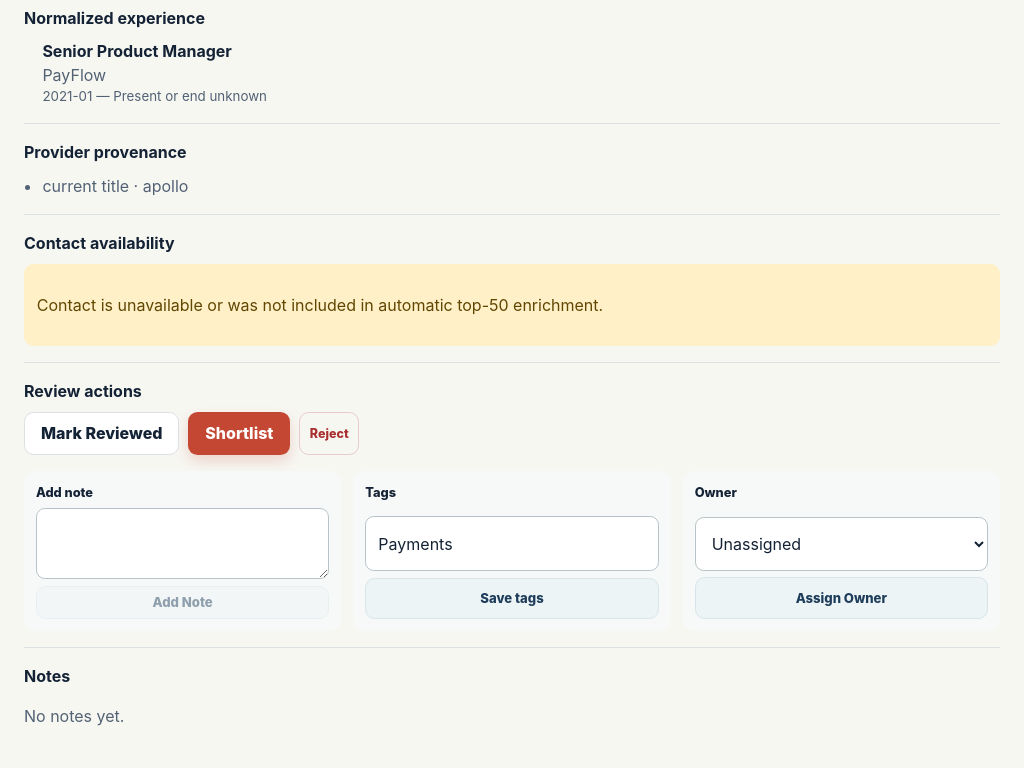
CandidateDetail › moves focus into the controlled rejection dialog
(page scrolled)
Click the button "Reject". click: x=329, y=434
box: [299,412,359,455]
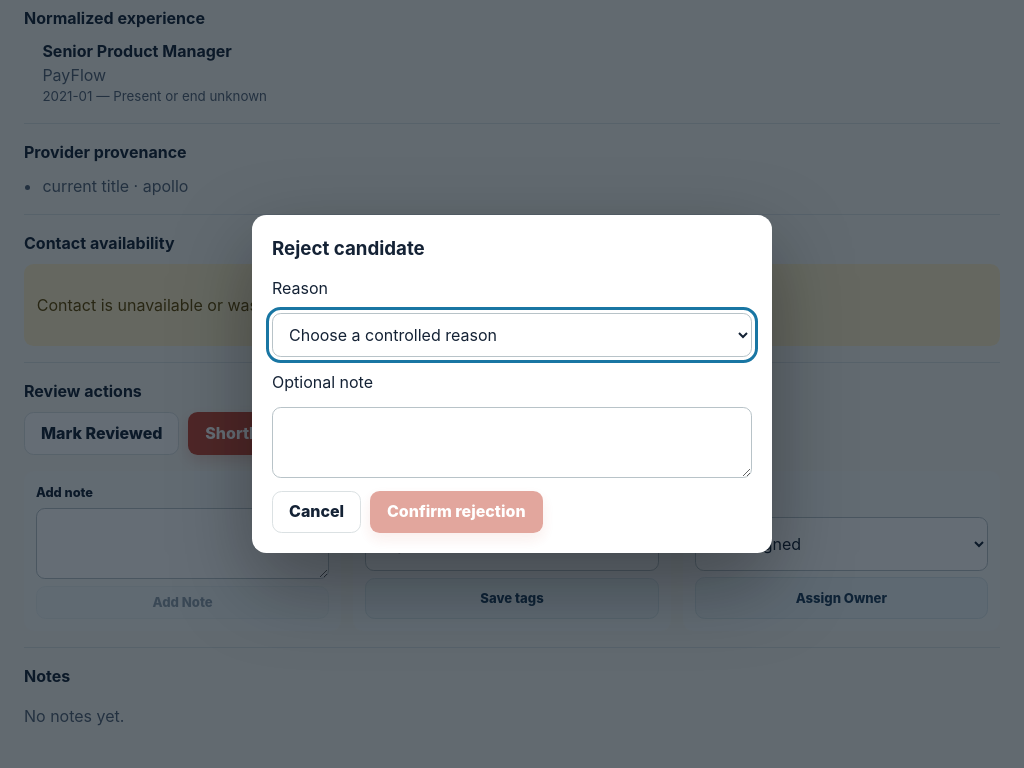
Now the dialog "Reject candidate" is shown, box [252,215,772,553]
Select "Location mismatch" in the dropdown labelled "Reason". click: x=512, y=335
box: [272,313,752,358]
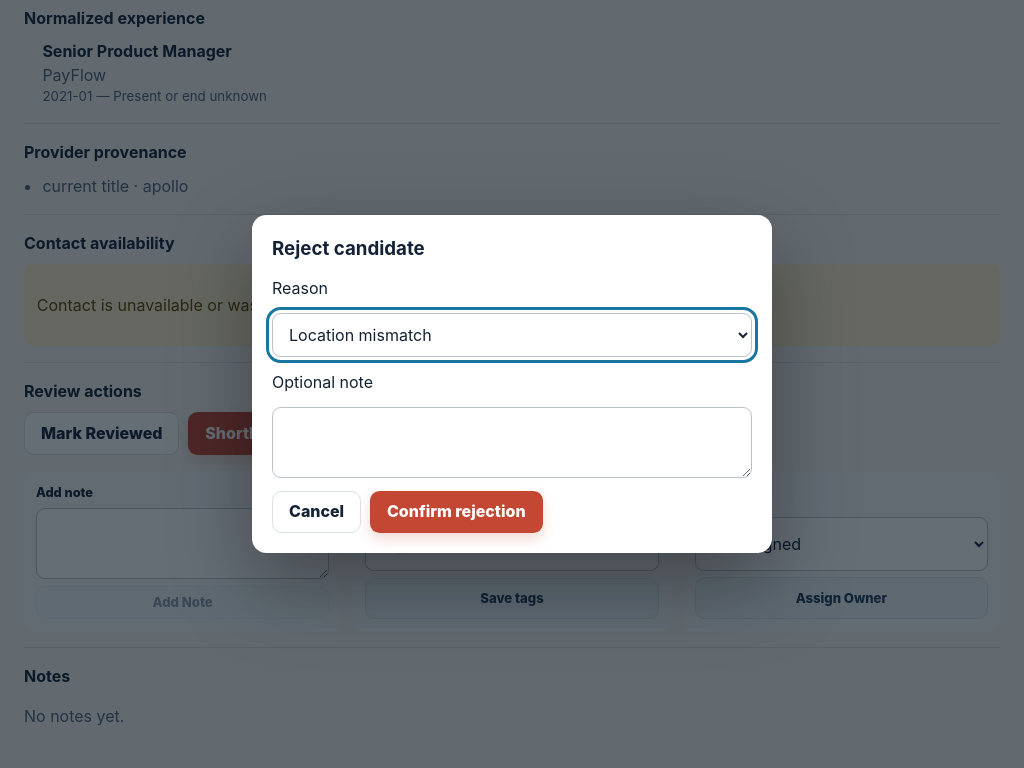
Now the button "Confirm rejection" is enabled, box [370,491,542,533]
Press Shift+Tab
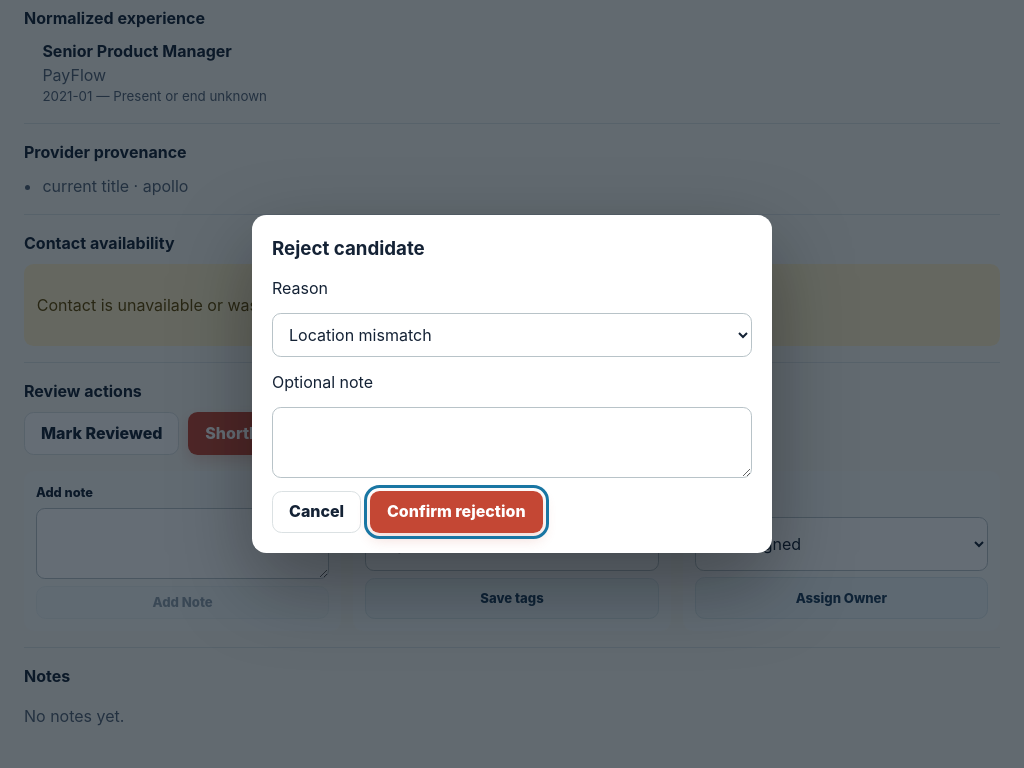
Press Escape
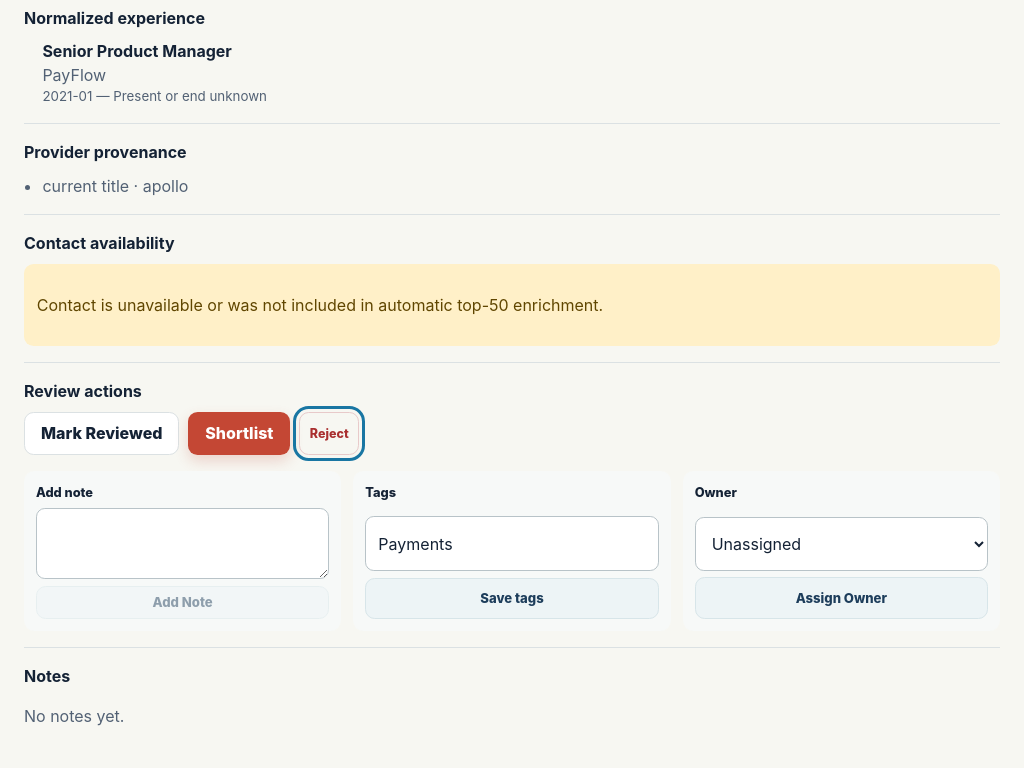
Now the dialog is gone
